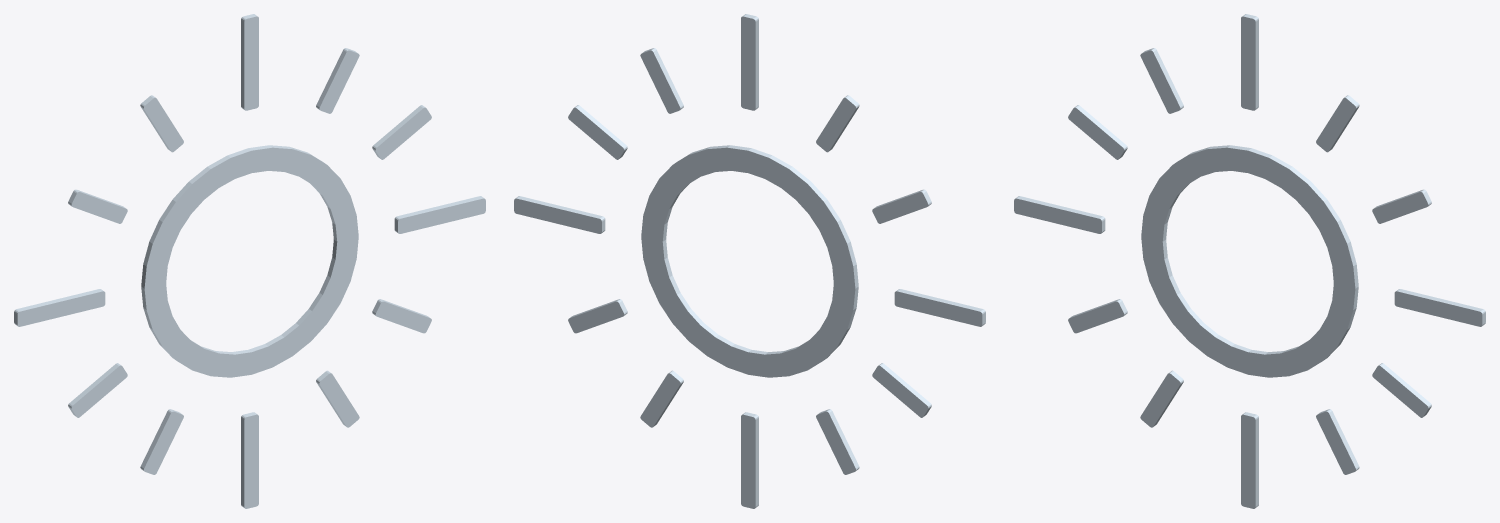
The model's file is Sun_3D_Icon.fbx.
3 views of the same model, side by side, from view 1: azimuth 30°, elevation 25°; view 2: azimuth 150°, elevation 25°; view 3: azimuth 330°, elevation 25° (orthographic).
Visible parts, largest first — view 1: Sun_3D_Icon_01; view 2: Sun_3D_Icon_01; view 3: Sun_3D_Icon_01.
Boxes of the visible parts, left/top/right/bottom form: Sun_3D_Icon_01: left=14, top=14, right=485, bottom=508; Sun_3D_Icon_01: left=514, top=14, right=985, bottom=508; Sun_3D_Icon_01: left=1014, top=14, right=1485, bottom=508.
Bounding box in the file's own units: 159 × 159 × 2.
